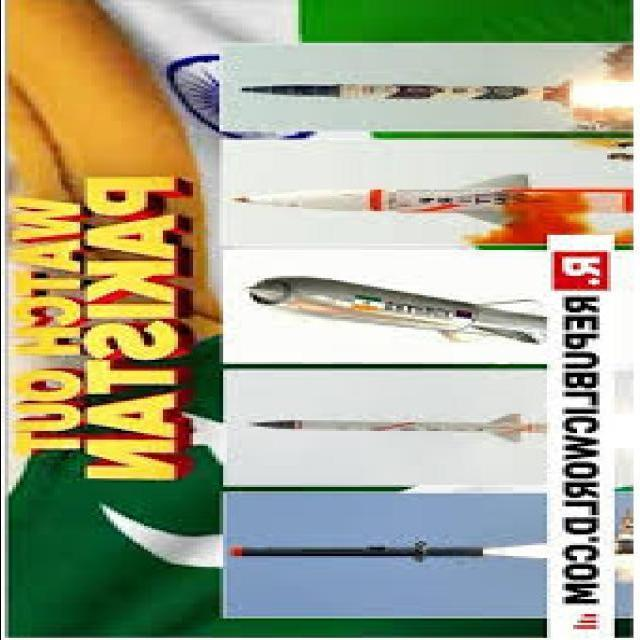Missile: (244, 274, 548, 357), (216, 169, 544, 227), (237, 401, 547, 445), (232, 80, 560, 107), (246, 412, 551, 441), (222, 537, 491, 569)
